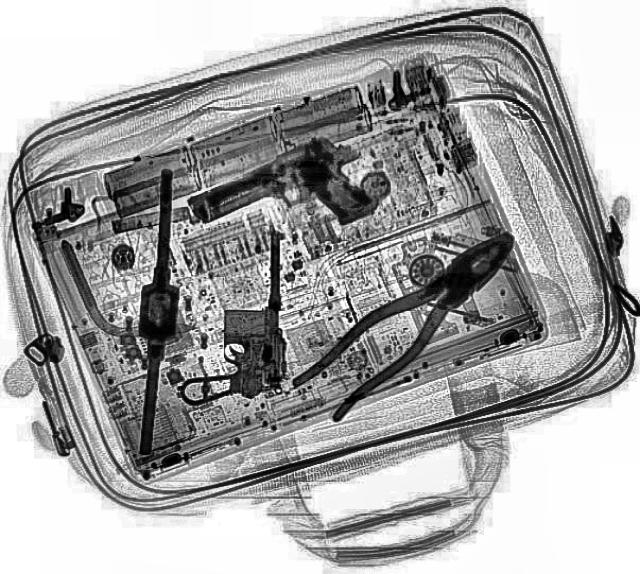Gun: (182, 124, 398, 276), (180, 228, 292, 406)
Pliers: (284, 214, 536, 422)
